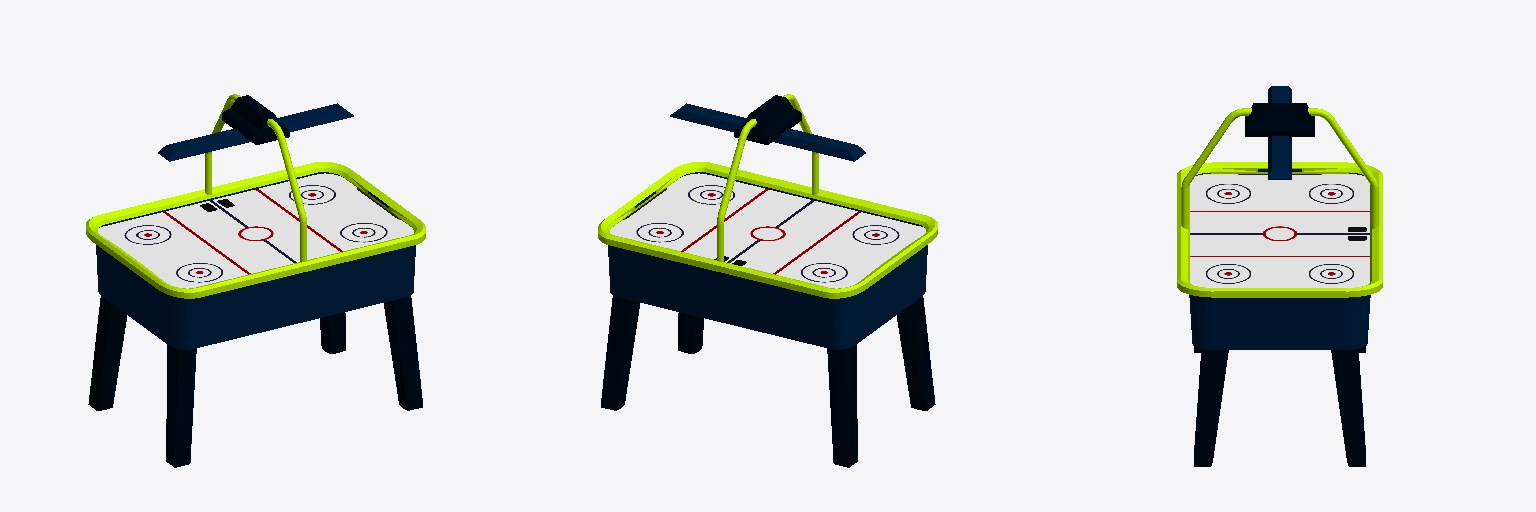
3 views of the same model, side by side, from view 1: azimuth 30°, elevation 25°; view 2: azimuth 150°, elevation 25°; view 3: azimuth 270°, elevation 25° (orthographic).
Visible parts, largest first — view 1: GEO_airhockeytable_Plane; view 2: GEO_airhockeytable_Plane; view 3: GEO_airhockeytable_Plane.
Boxes of the visible parts, x1=… form: GEO_airhockeytable_Plane: x1=86, y1=94, x2=425, y2=467; GEO_airhockeytable_Plane: x1=598, y1=94, x2=937, y2=467; GEO_airhockeytable_Plane: x1=1177, y1=86, x2=1382, y2=466.
Size of the model in its own units: 31.8 by 34.78 by 21.72.
1 materials, 1 textured.